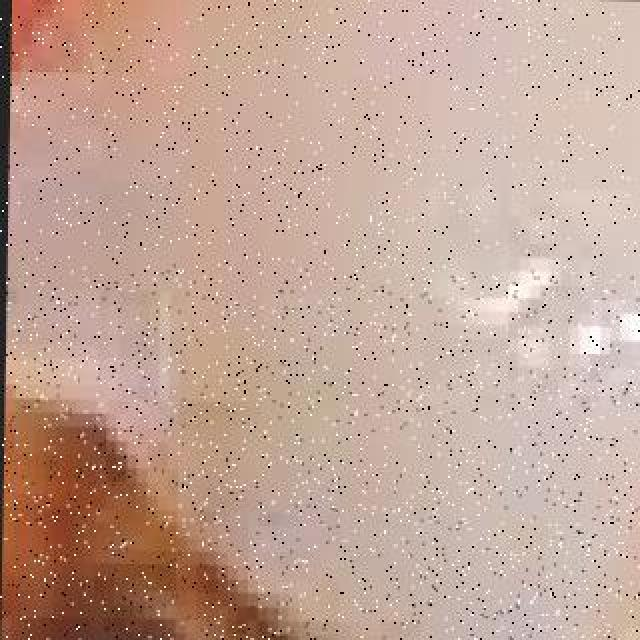cavities: (0, 292, 614, 640)
